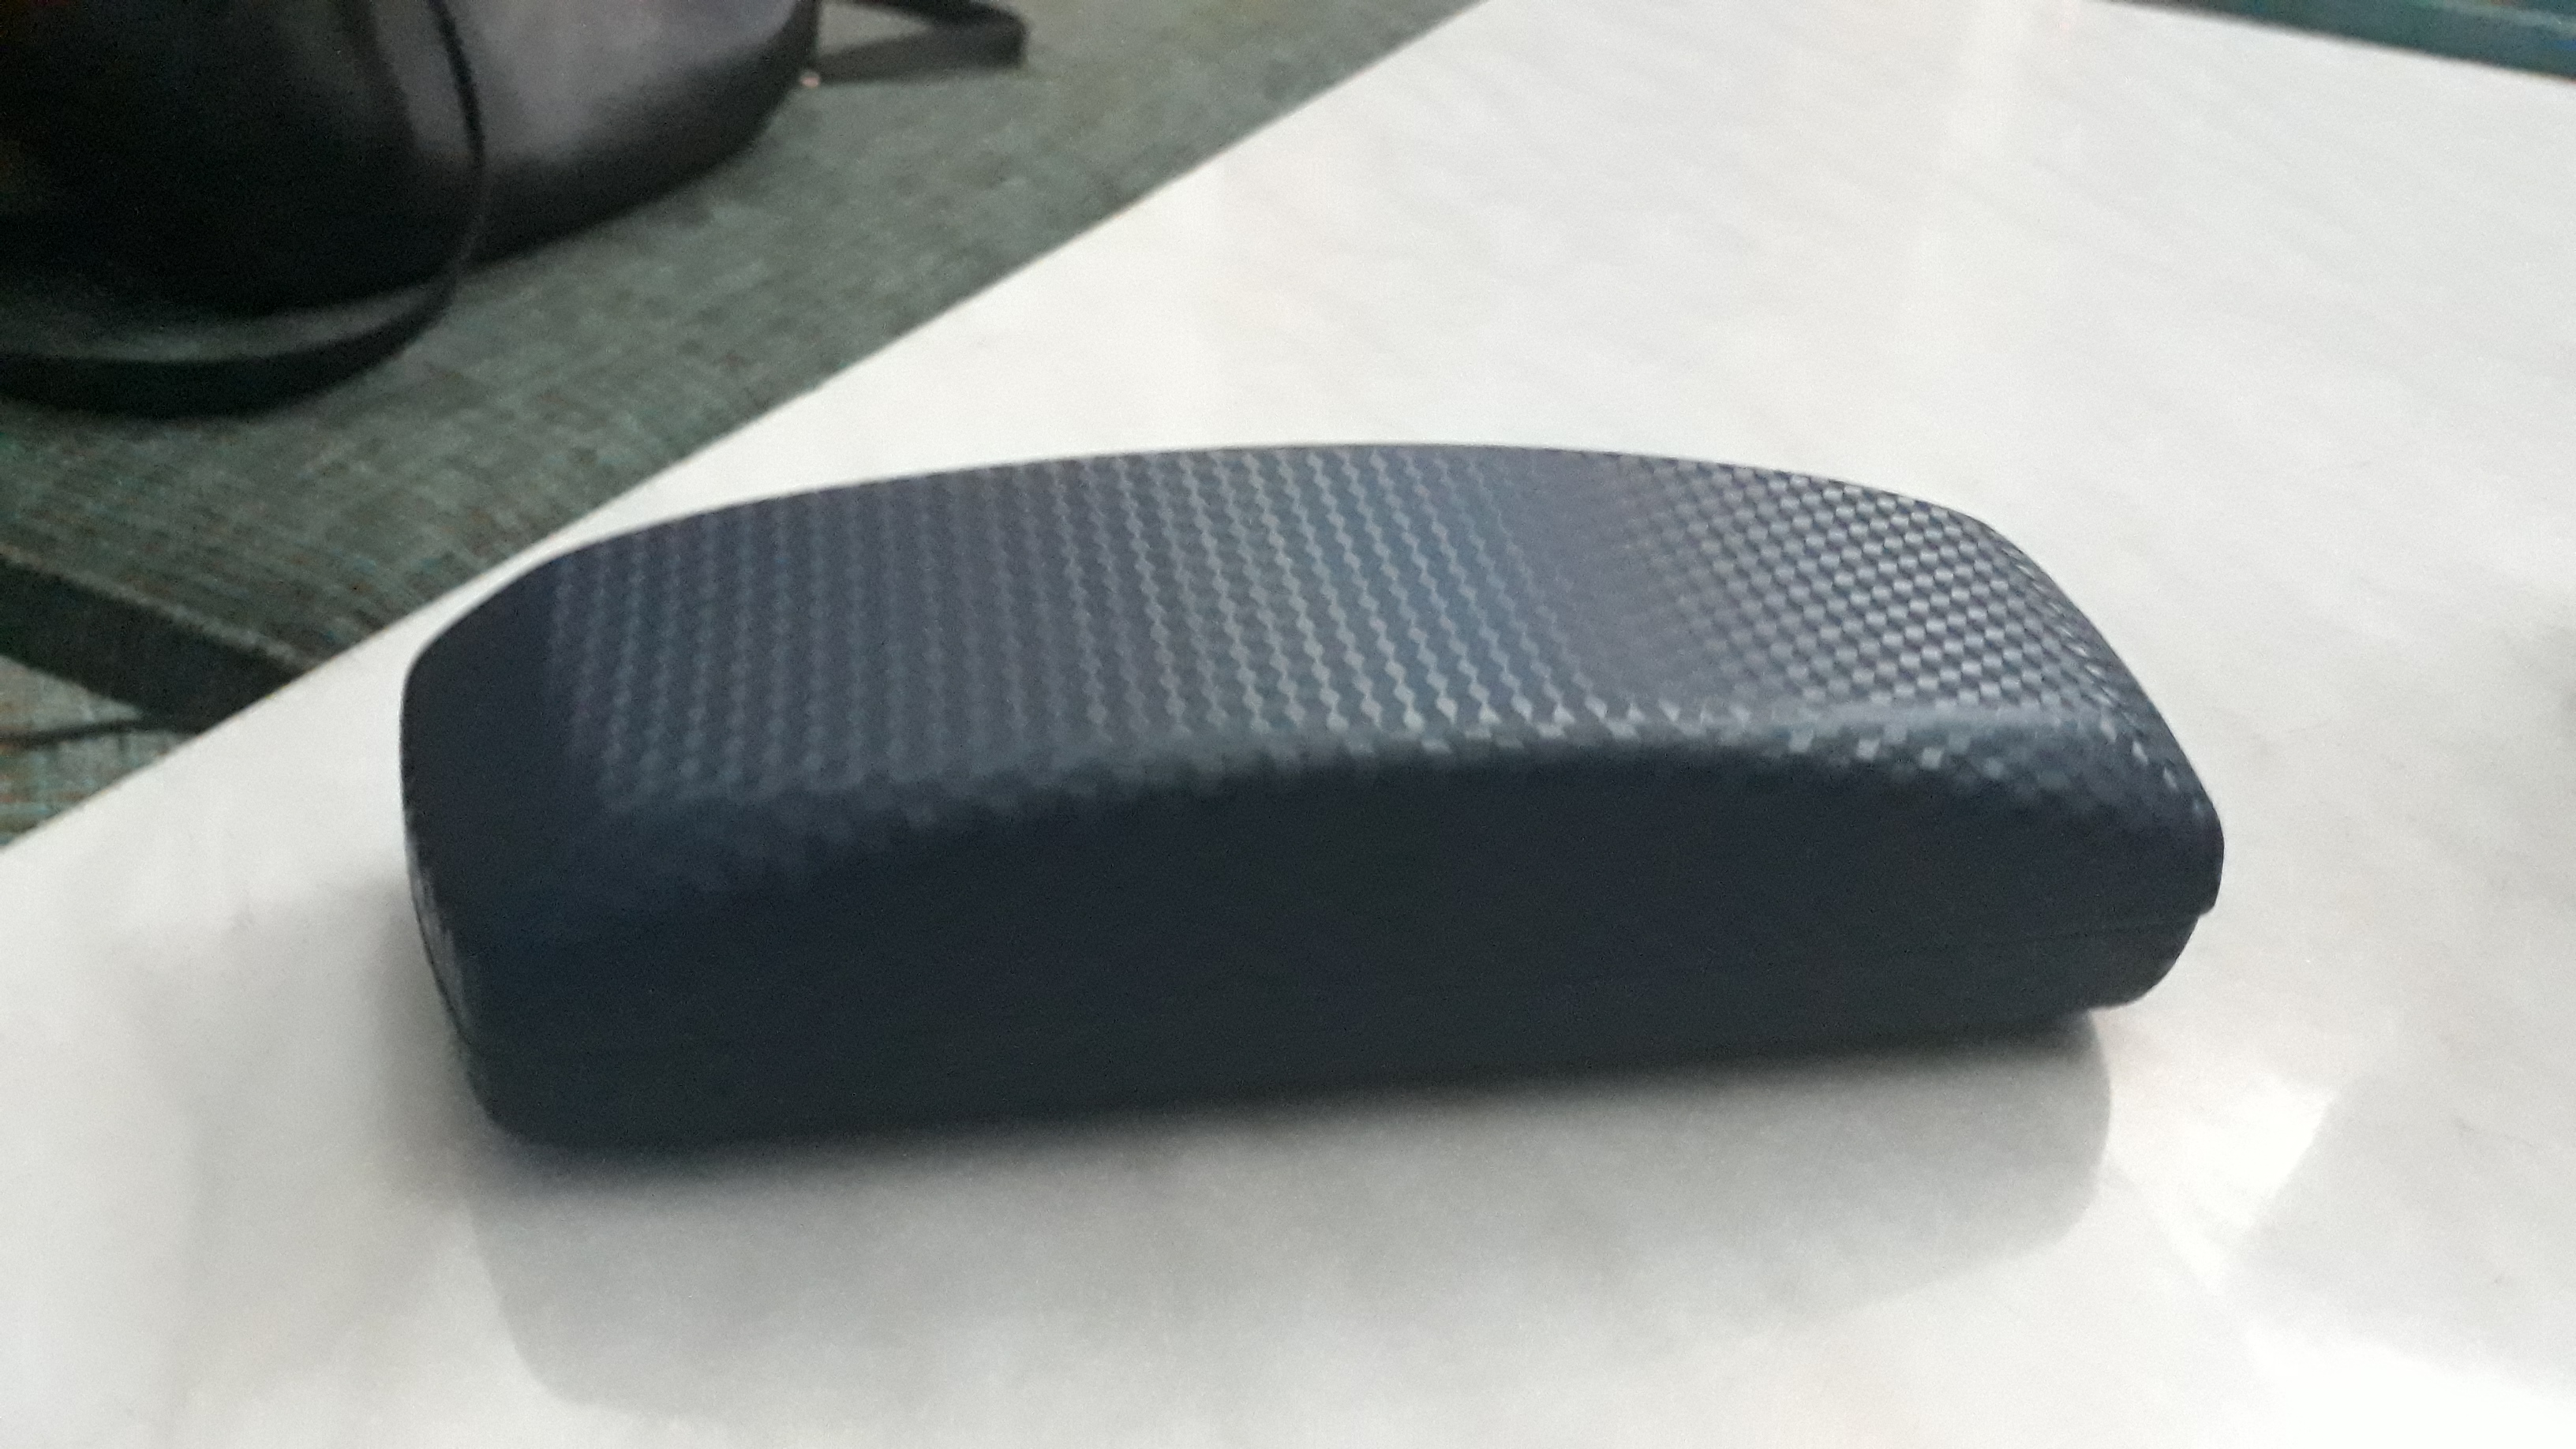nadar: (379, 334, 2252, 1192)
